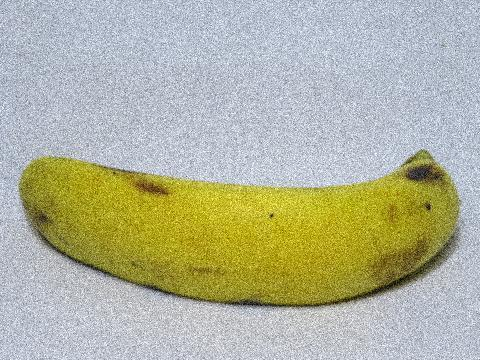freshripe: (10, 126, 466, 315)
